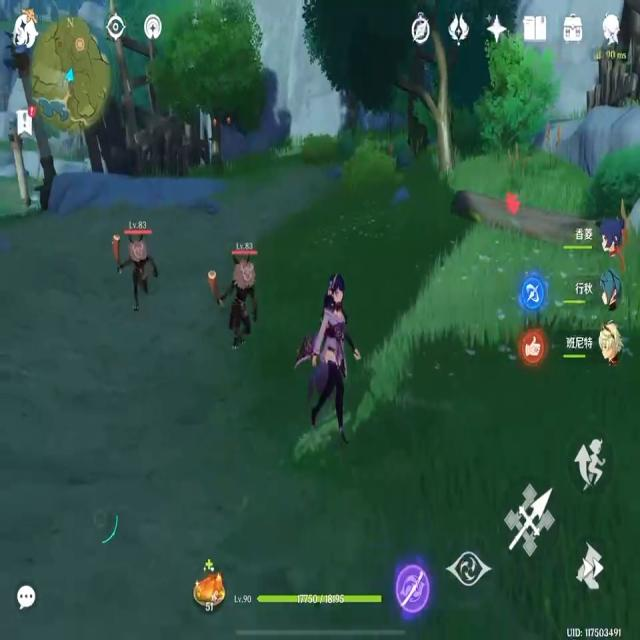genshin-hilichurls: (211, 256, 261, 344), (111, 229, 160, 312)
